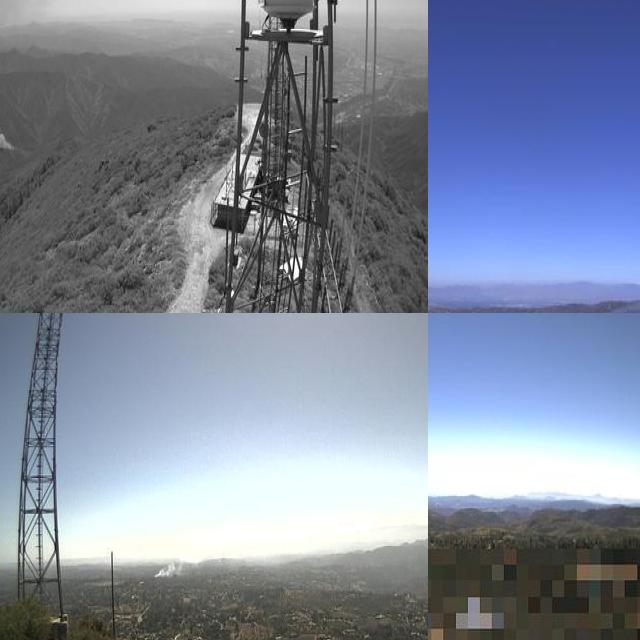smoke: (153, 543, 198, 577)
